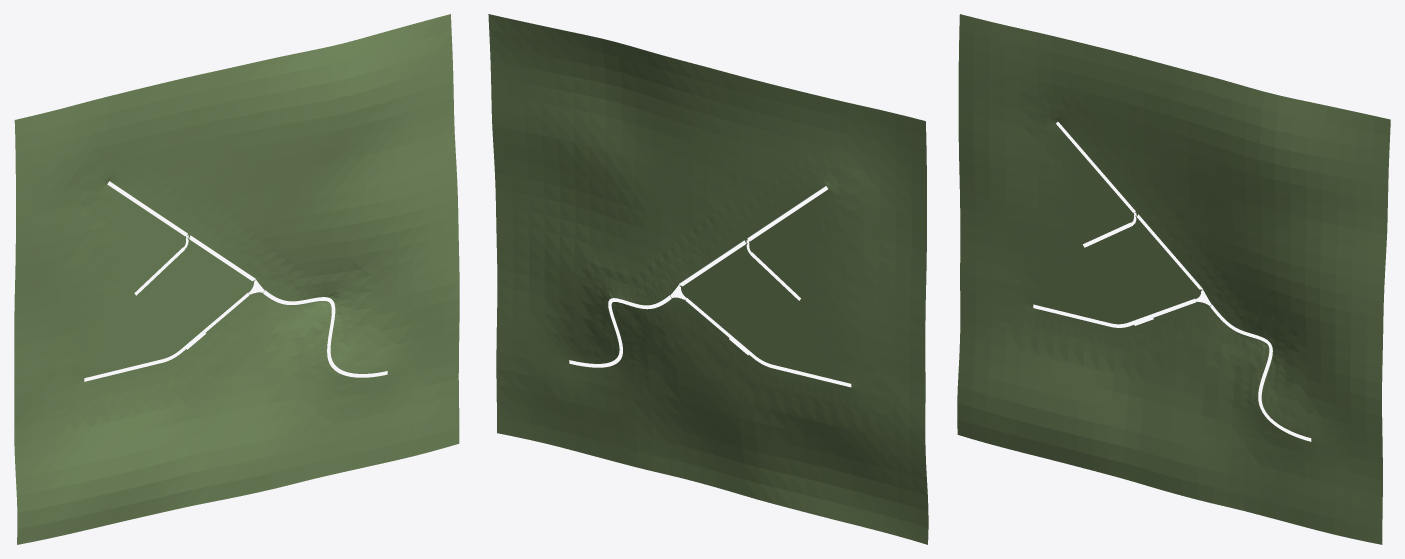
File: GeneratedTerrain.obj
3 views of the same model, side by side, from view 1: azimuth 30°, elevation 25°; view 2: azimuth 150°, elevation 25°; view 3: azimuth 330°, elevation 25° (orthographic).
Visible parts, largest first — view 1: Background; view 2: Background; view 3: Background.
Part boxes in pixels (x1=…): Background: x1=14, y1=14, x2=459, y2=544; Background: x1=488, y1=14, x2=928, y2=544; Background: x1=957, y1=14, x2=1390, y2=544.
Bounding box in the file's own units: 1120 × 1040 × 56.24.
